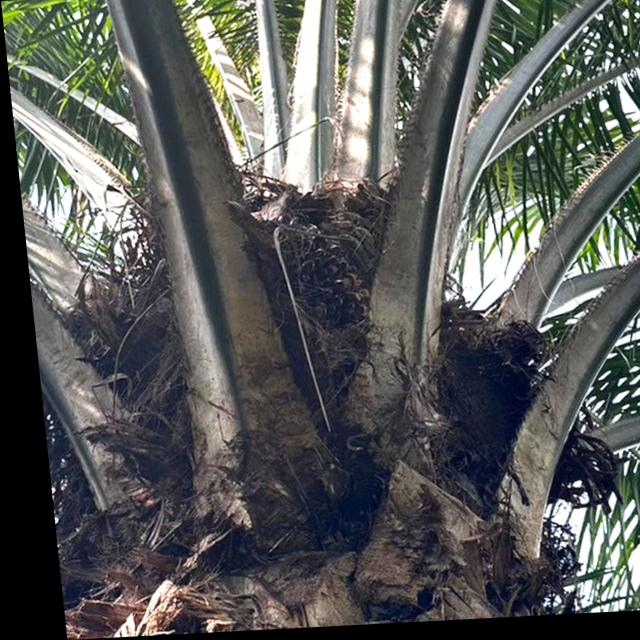almost: (249, 210, 382, 371)
